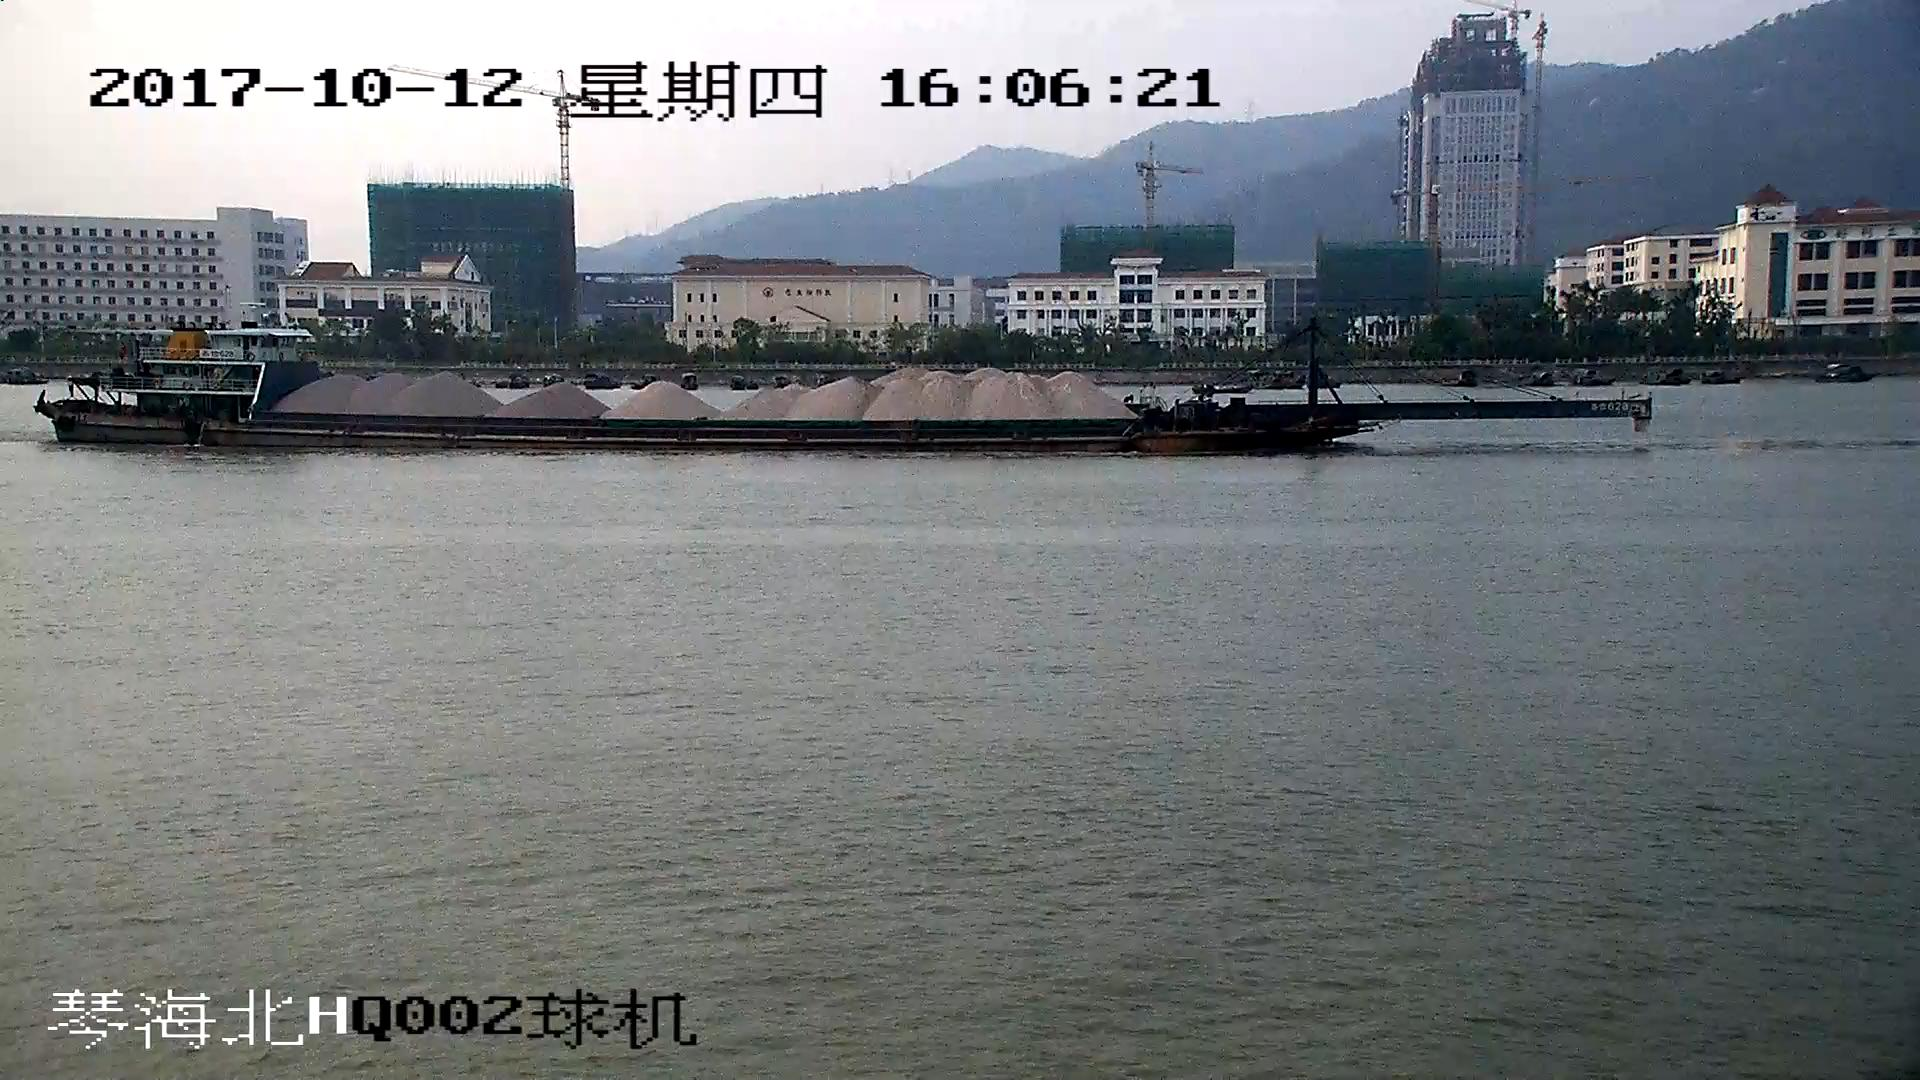ore carrier: (36, 319, 1653, 455)
